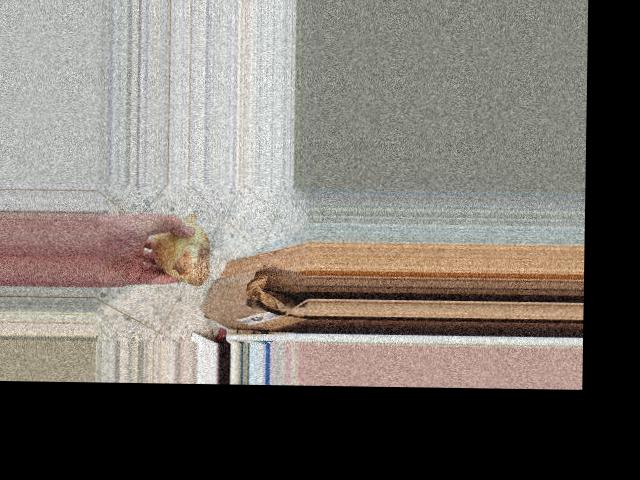onion: (145, 216, 217, 287)
